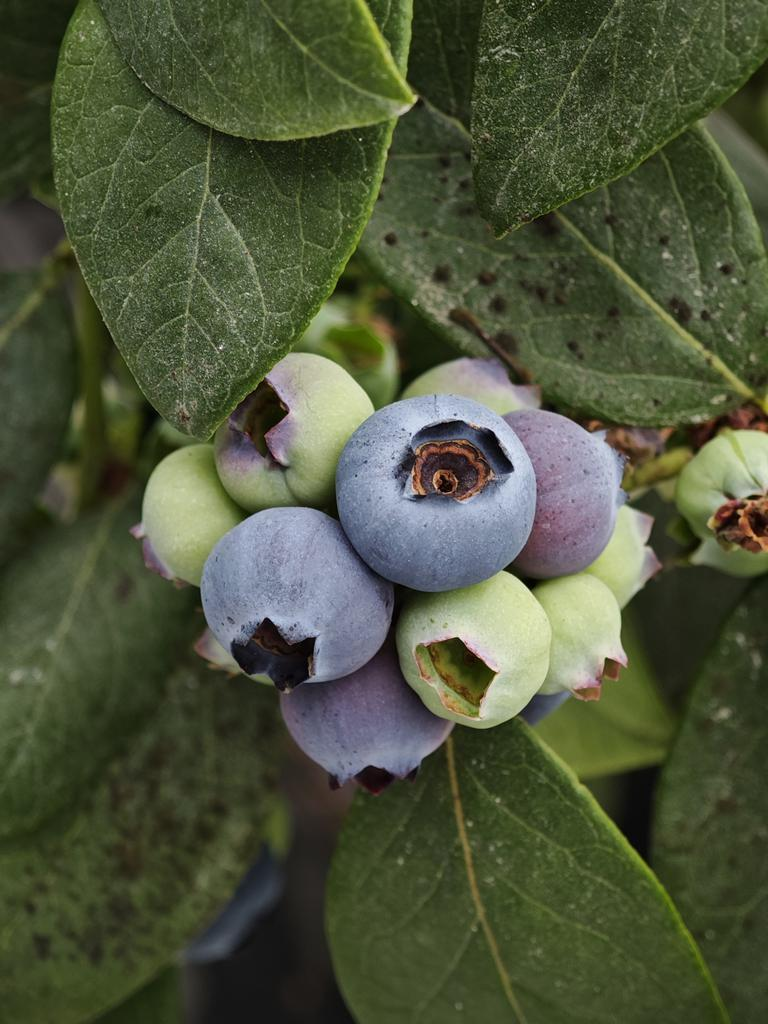RipeBlueBerry: (340, 403, 537, 596), (202, 502, 392, 691)
UnripeBlueBerry: (399, 576, 553, 726)
